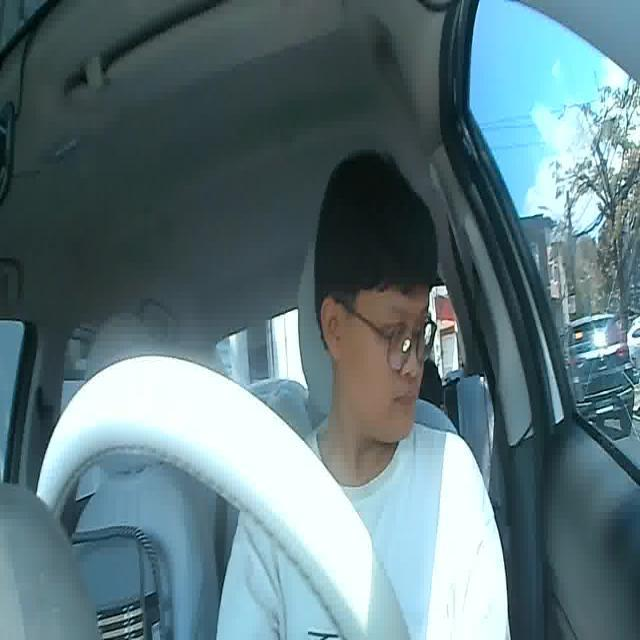Eye-Open: (382, 317, 404, 340), (412, 320, 434, 342)
Inattentive: (302, 150, 446, 453)
Normal: (394, 390, 415, 411)
